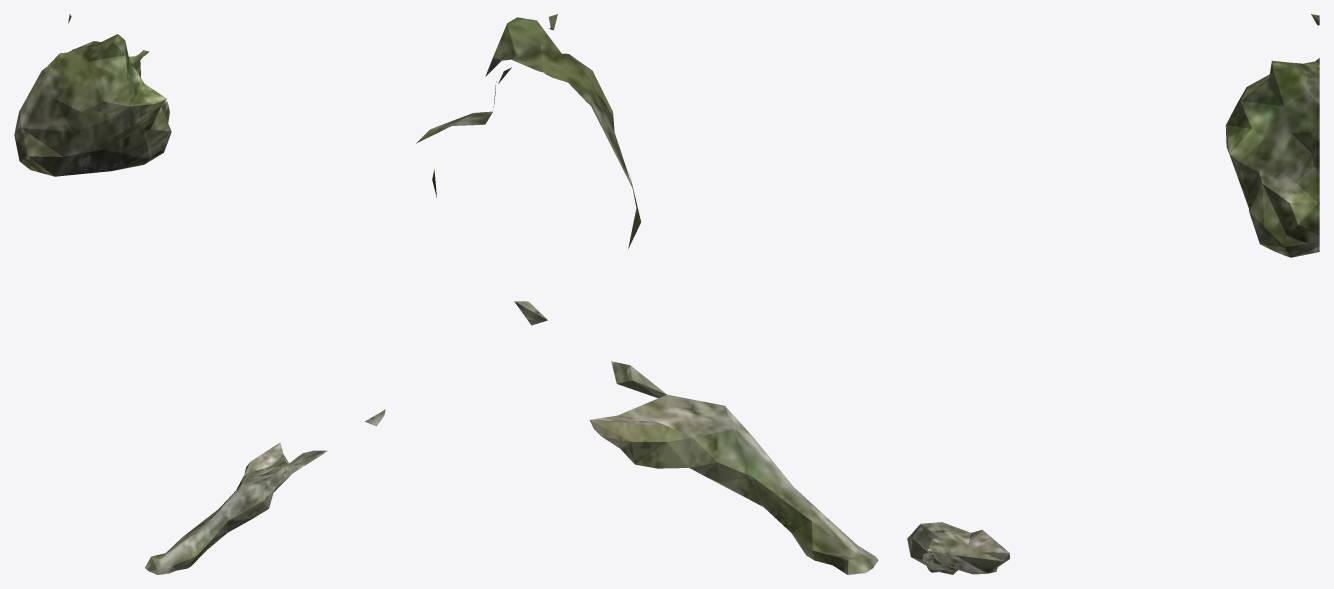
The picture shows the model from 3 angles, left to right: view 1: azimuth 30°, elevation 25°; view 2: azimuth 150°, elevation 25°; view 3: azimuth 270°, elevation 25°; orthographic projection. The views are drawn at different scales.
Size of the model in its own units: 1.35 by 2.43 by 1.58.
1 material, 1 textured.
